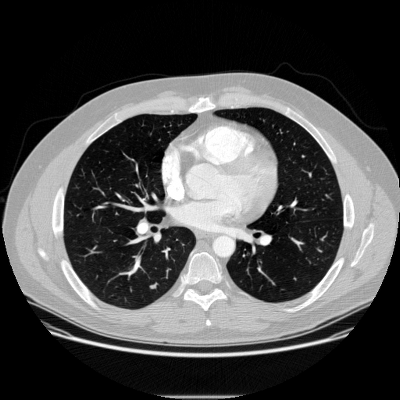nodule: (150, 284, 154, 288)
